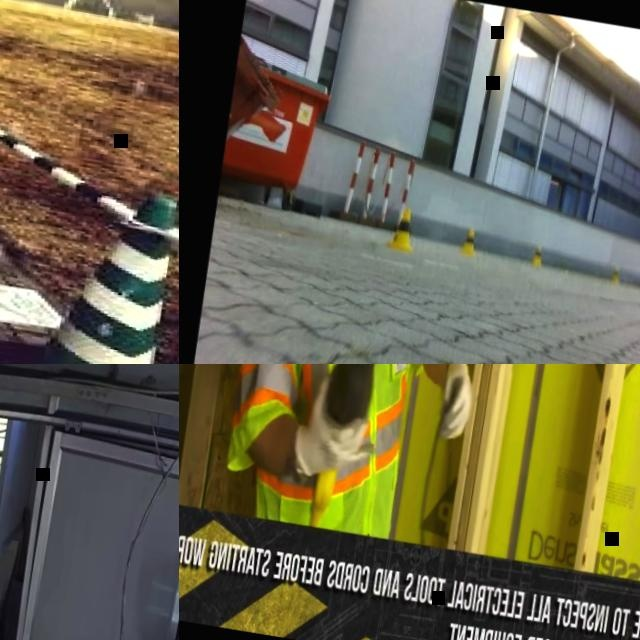Person: (210, 364, 531, 551)
Safety Cone: (0, 161, 179, 364), (385, 205, 418, 251), (460, 227, 479, 254), (531, 244, 544, 266), (610, 266, 620, 282)
Safety Vest: (212, 364, 476, 545)
